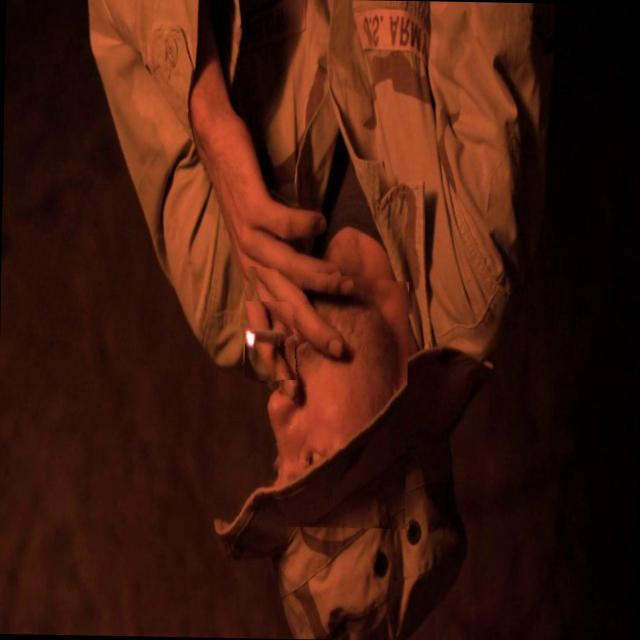cigarette: (244, 302, 298, 382)
